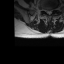CCS_normal: (48, 7, 50, 16)
LFS_stenosis: (52, 7, 55, 13)
LLS_normal: (50, 7, 52, 15)
RFS_stenosis: (43, 6, 45, 14)
RLS_normal: (45, 7, 48, 15)
